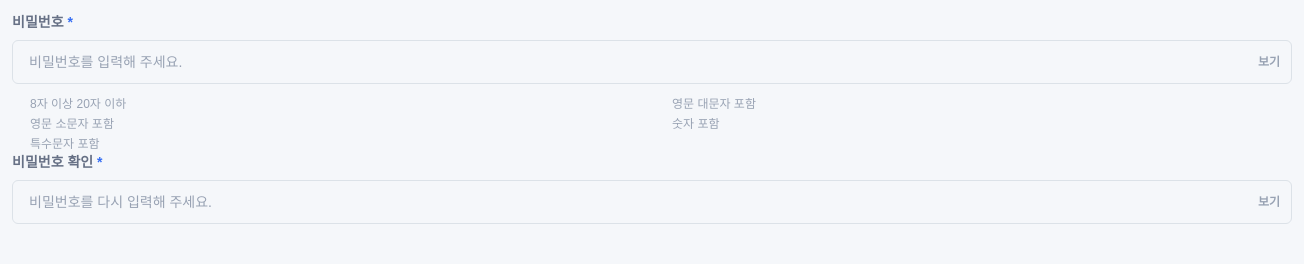
it: 비밀번호와 확인이 같으면 일치 메시지를 보여준다
The image size is (1304, 264).
Type "Abcdefg1!" into the password field labelled "비밀번호 *" at (652,62), box [12, 40, 1292, 84]
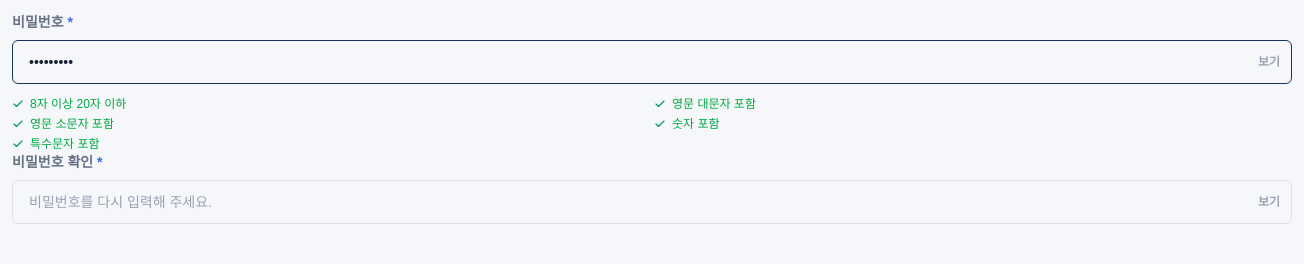
Type "Abcdefg1!" into the password field labelled "비밀번호 확인 *" at (652,202), box [12, 180, 1292, 224]
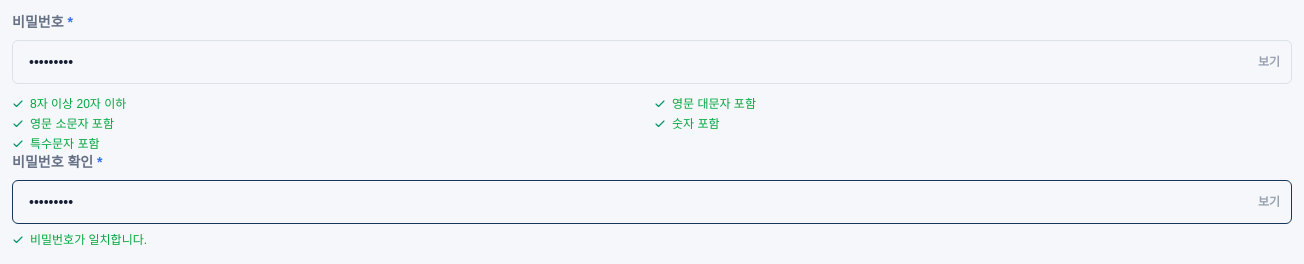
Expected: the text "비밀번호가 일치합니다." is shown, [12, 233, 147, 247]
